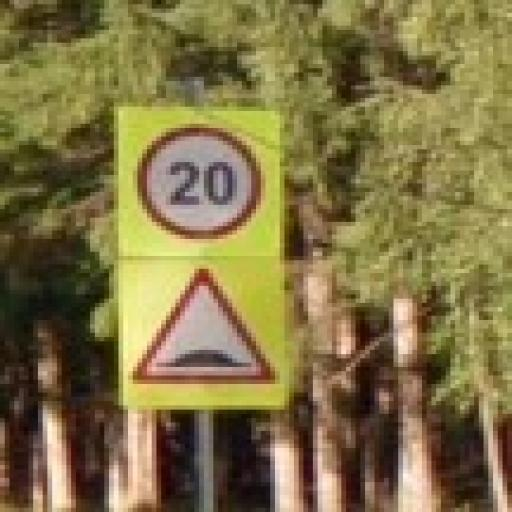traffic_sign: (129, 266, 281, 385), (139, 125, 267, 244)
